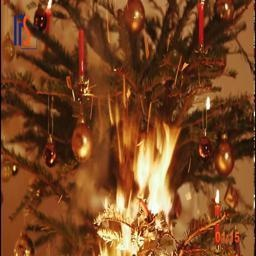fire: (109, 100, 177, 221)
